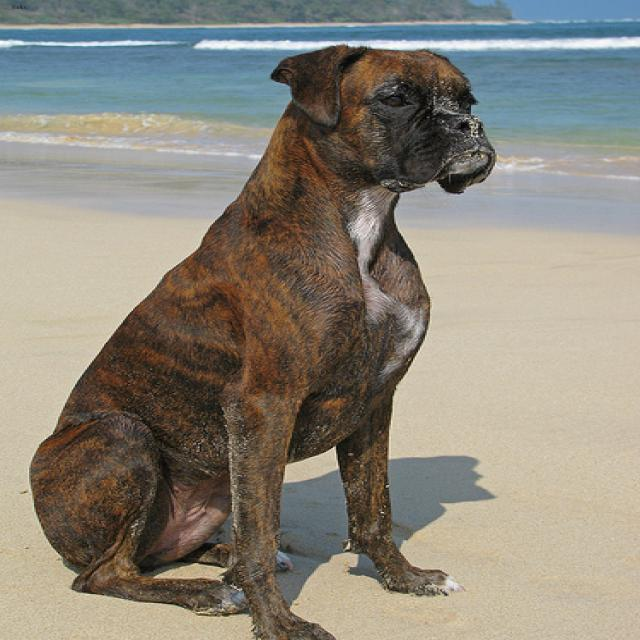dog-boxer: (15, 33, 503, 637)
